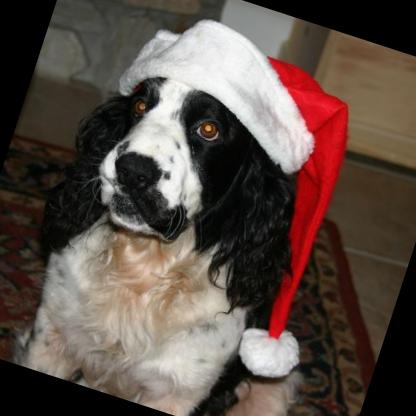English_springer: (0, 51, 378, 416)
